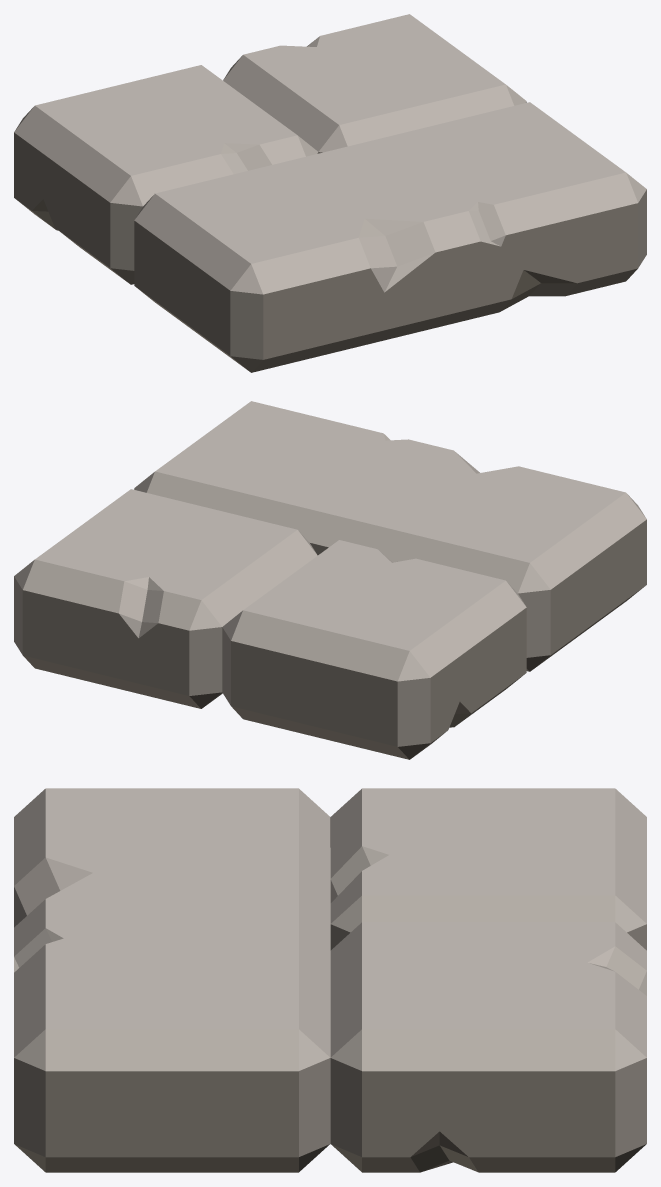
Rendered from m_kub_stone_flatMixed.FBX.
The picture shows the model from 3 angles, top to bottom: view 1: azimuth 30°, elevation 25°; view 2: azimuth 150°, elevation 25°; view 3: azimuth 270°, elevation 25°; orthographic projection. The views are drawn at different scales.
Parts seen in each view (by area): view 1: m_kub_stone_flatMixed; view 2: m_kub_stone_flatMixed; view 3: m_kub_stone_flatMixed.
Boxes of the visible parts, x1=… form: m_kub_stone_flatMixed: x1=14, y1=14, x2=646, y2=372; m_kub_stone_flatMixed: x1=14, y1=401, x2=646, y2=759; m_kub_stone_flatMixed: x1=14, y1=788, x2=646, y2=1172.
Bounding box in the file's own units: 2 × 0.5 × 2.
